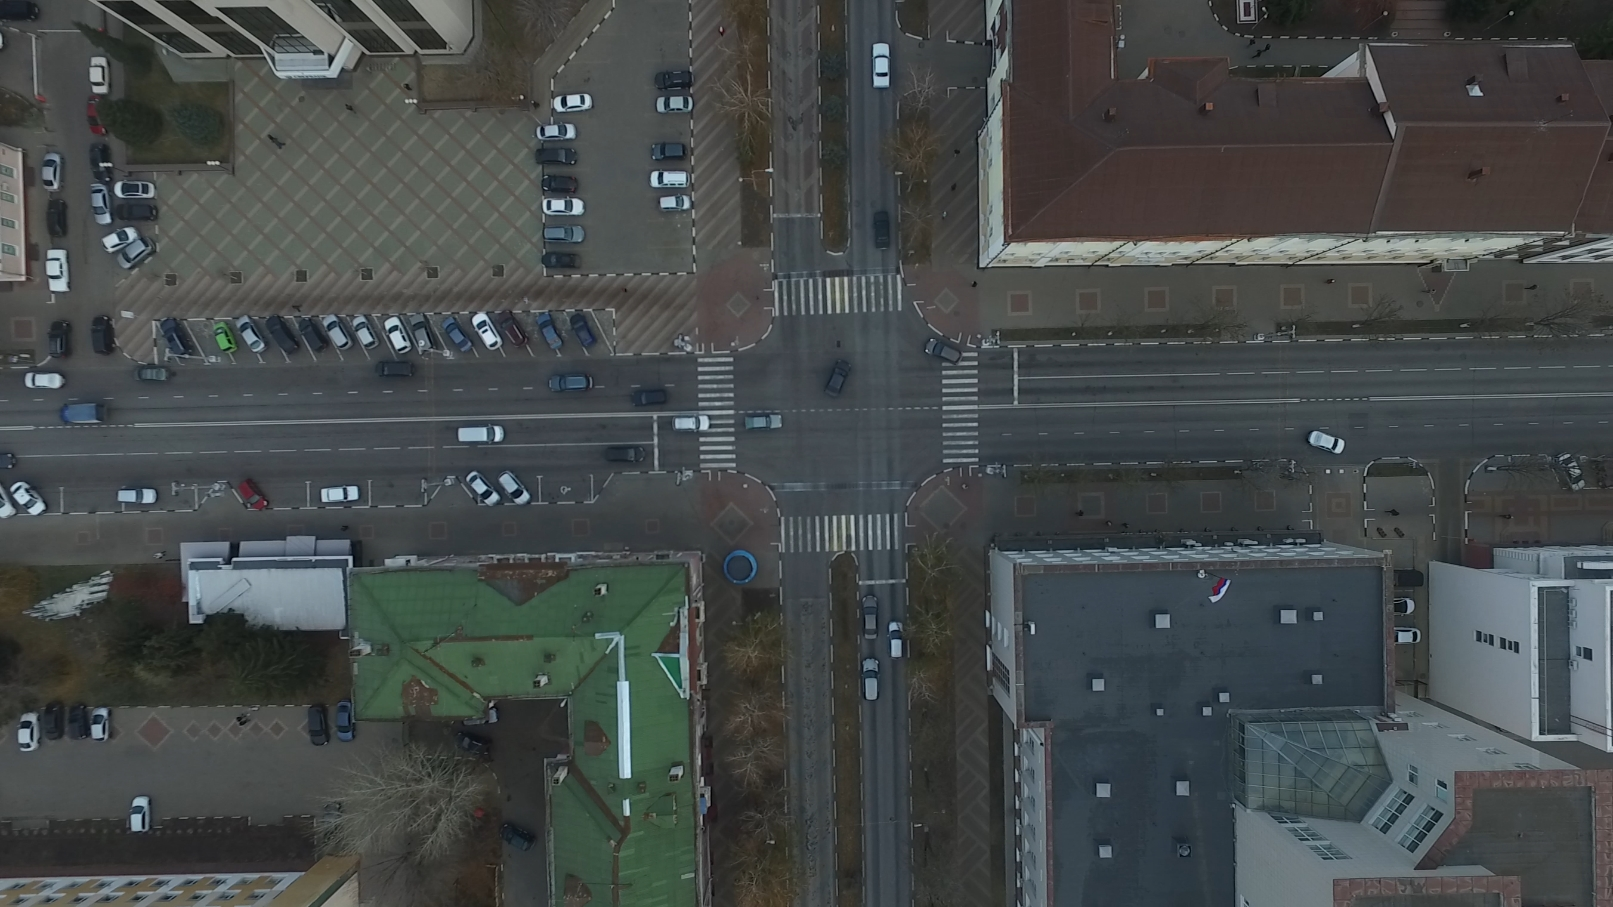car: (156, 318, 196, 360), (266, 316, 301, 358), (465, 470, 505, 505), (44, 250, 75, 296), (321, 315, 356, 354), (14, 480, 49, 518), (495, 309, 530, 347), (471, 315, 505, 352), (440, 317, 474, 354), (1557, 450, 1589, 489), (499, 822, 537, 854), (455, 423, 506, 447), (499, 470, 533, 505), (823, 358, 854, 396), (409, 313, 436, 357), (322, 800, 349, 844), (235, 317, 267, 353), (455, 730, 494, 760), (58, 402, 107, 425), (91, 317, 117, 360), (91, 186, 117, 229), (349, 315, 380, 351), (534, 315, 564, 352), (298, 318, 329, 353), (41, 152, 68, 193), (89, 145, 115, 186), (921, 339, 965, 363), (126, 794, 152, 836), (308, 704, 332, 748), (119, 238, 155, 267), (101, 226, 137, 255), (85, 97, 110, 141), (88, 58, 114, 96), (335, 700, 358, 743), (383, 318, 410, 355), (239, 480, 270, 512), (543, 374, 593, 394), (567, 315, 596, 349), (113, 181, 157, 203), (859, 661, 880, 707), (50, 321, 73, 362), (533, 150, 581, 169), (1309, 429, 1345, 455), (45, 700, 68, 742), (376, 360, 419, 381), (24, 370, 66, 391), (540, 227, 584, 247), (872, 41, 890, 90), (653, 73, 694, 94), (115, 204, 158, 224), (861, 595, 880, 640), (66, 705, 90, 742), (648, 171, 690, 190), (871, 210, 891, 252), (21, 713, 43, 751), (653, 97, 694, 117), (552, 94, 590, 115), (2, 4, 41, 25), (319, 485, 359, 505), (534, 124, 576, 143), (670, 413, 712, 432), (541, 200, 584, 218), (540, 178, 579, 197), (49, 206, 69, 244), (132, 365, 172, 384), (214, 322, 237, 354), (91, 707, 112, 742), (540, 252, 582, 270), (606, 444, 645, 463), (654, 195, 690, 214), (630, 390, 668, 408), (1391, 569, 1422, 590), (117, 489, 160, 504), (1, 475, 14, 521), (649, 145, 688, 161), (887, 621, 903, 660), (744, 416, 785, 429), (1393, 628, 1420, 645), (1394, 596, 1412, 615), (1, 453, 19, 468)
